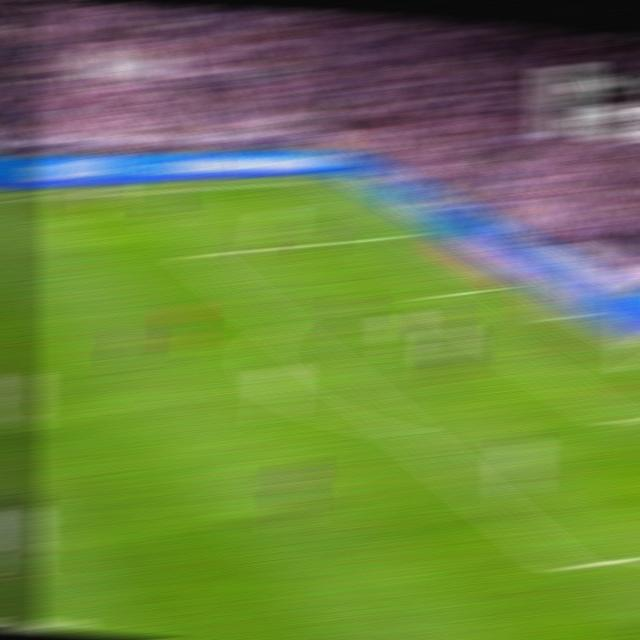bigarea_bottom_inner: (550, 553, 584, 583)
bigarea_top_inner: (182, 247, 209, 264)
bigarea_top_outter: (396, 227, 424, 239)
bottom_arc_area_intersection: (388, 420, 420, 442)
corner: (308, 177, 335, 184)
smallarea_bottom_inner: (602, 409, 633, 431)
smallarea_top_inner: (416, 290, 442, 303)
top_arc_area_intersection: (263, 315, 294, 333)
